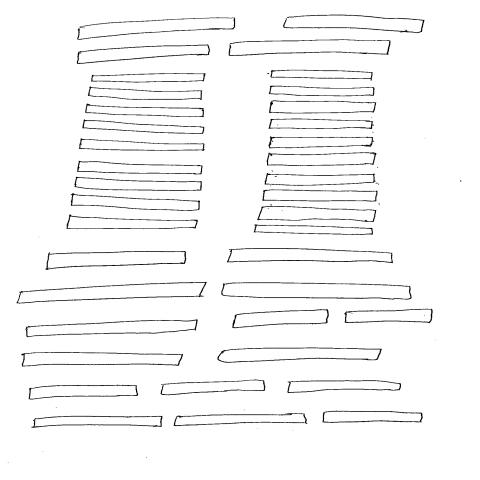Textbox: (17, 282, 208, 305), (78, 18, 237, 41), (222, 283, 413, 300), (26, 320, 198, 338), (217, 347, 383, 364), (46, 252, 187, 272), (229, 40, 392, 57), (283, 15, 426, 34), (77, 45, 211, 65), (227, 248, 393, 264), (22, 352, 183, 367), (71, 194, 201, 212), (258, 206, 377, 222), (174, 413, 308, 427), (82, 121, 206, 136), (67, 216, 199, 230), (232, 310, 329, 329), (74, 178, 203, 192), (77, 161, 204, 175), (29, 385, 139, 401), (31, 416, 164, 429), (160, 380, 266, 396), (86, 104, 206, 118), (79, 140, 206, 153), (267, 152, 377, 167), (288, 381, 403, 395), (89, 87, 203, 101), (269, 101, 377, 115), (262, 190, 378, 203), (266, 174, 376, 187), (345, 310, 434, 325), (323, 411, 424, 424), (255, 225, 374, 236), (269, 137, 374, 149), (269, 86, 376, 97), (269, 119, 375, 130), (92, 73, 207, 83), (270, 70, 374, 80)
